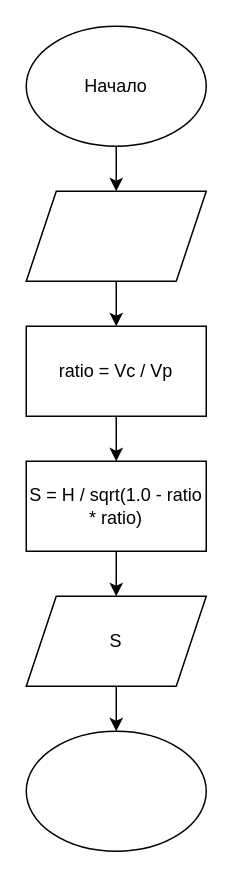
Some shapes in this 233 by 878 pixel diagram are drawn without their labels. The centre of each missing label's shape, as x and y in pixels:
H, Vс, Vp: point 115,235
Конец: point 115,790
